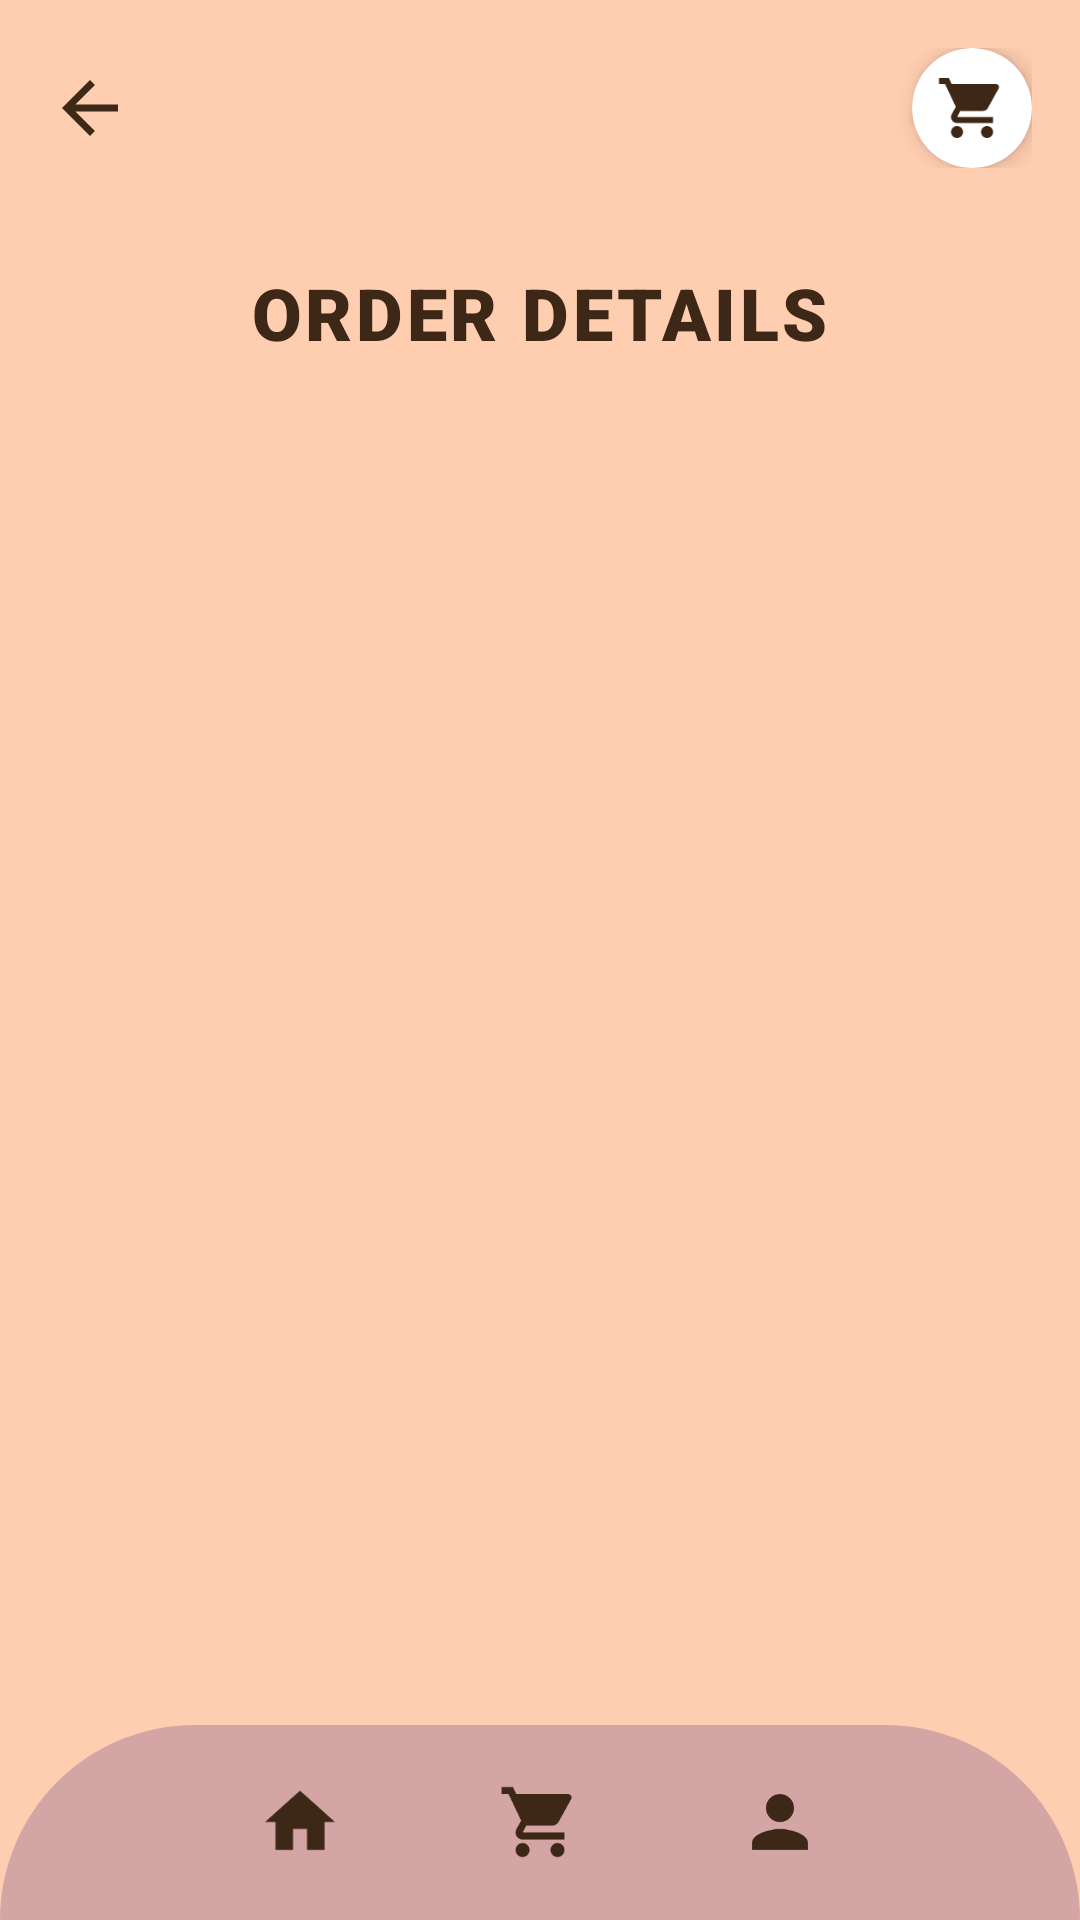

Named icons in this screenshot (1080w x 1920h) and their centers, point (x, y):
Back: point (90, 108)
Cart: point (969, 108), point (536, 1822)
Home: point (300, 1820)
Profile: point (780, 1822)
